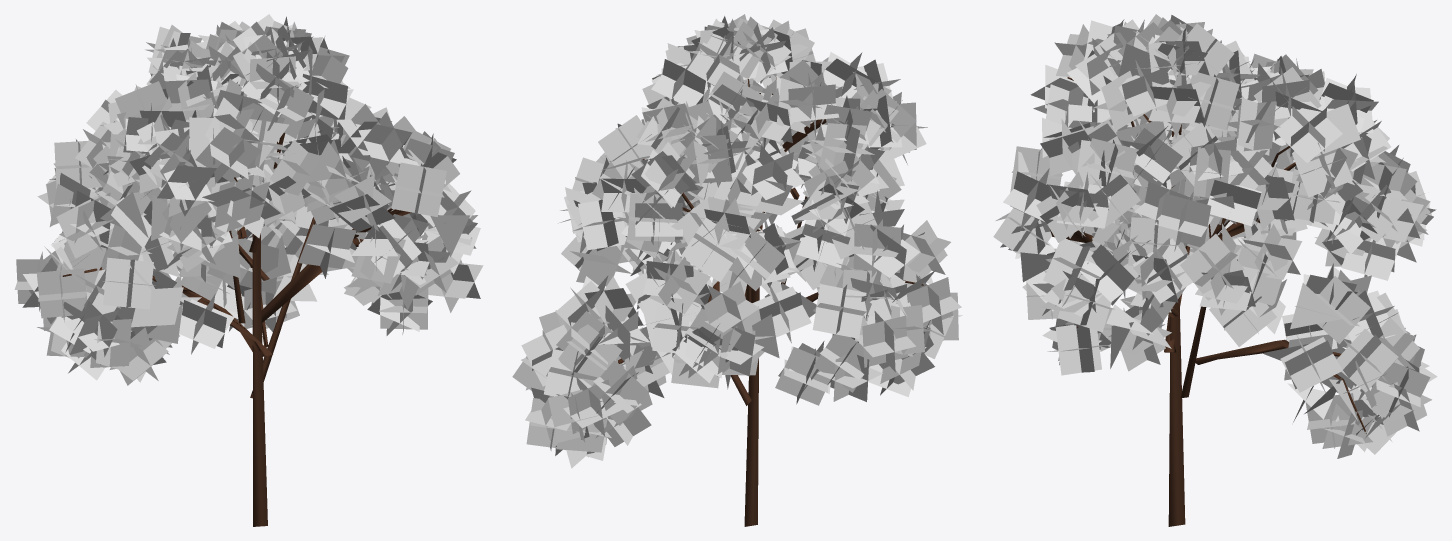
File: Tree2Lod2.fbx
3 views of the same model, side by side, from view 1: azimuth 30°, elevation 25°; view 2: azimuth 150°, elevation 25°; view 3: azimuth 270°, elevation 25° (orthographic). The views are drawn at different scales.
Parts seen in each view (by area): view 1: Leaf.003, tree.002; view 2: Leaf.003, tree.002; view 3: Leaf.003, tree.002.
Boxes of the visible parts, left/top/right/bottom form: Leaf.003: left=14, top=14, right=483, bottom=385; tree.002: left=62, top=132, right=411, bottom=526; Leaf.003: left=512, top=14, right=962, bottom=468; tree.002: left=618, top=77, right=923, bottom=526; Leaf.003: left=993, top=14, right=1437, bottom=458; tree.002: left=1050, top=77, right=1366, bottom=526.
Size of the model in its own units: 923 by 1120 by 886.
